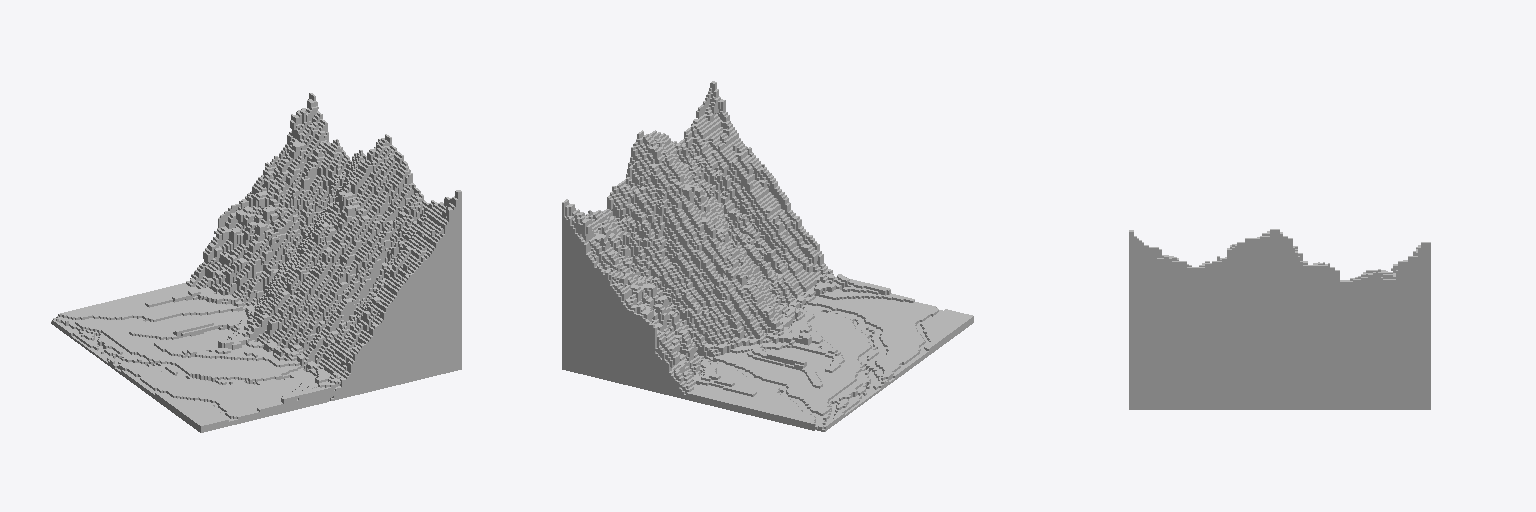
The model's file is vietnam mountain.obj.
The picture shows the model from 3 angles: view 1: azimuth 30°, elevation 25°; view 2: azimuth 150°, elevation 25°; view 3: azimuth 270°, elevation 25°; orthographic projection.
Parts seen in each view (by area): view 1: vietnam mountain; view 2: vietnam mountain; view 3: vietnam mountain.
Boxes of the visible parts, <box> form: vietnam mountain: <box>51,93,461,432</box>; vietnam mountain: <box>562,81,973,431</box>; vietnam mountain: <box>1129,229,1430,409</box>.
Size of the model in its own units: 120 by 79 by 120.